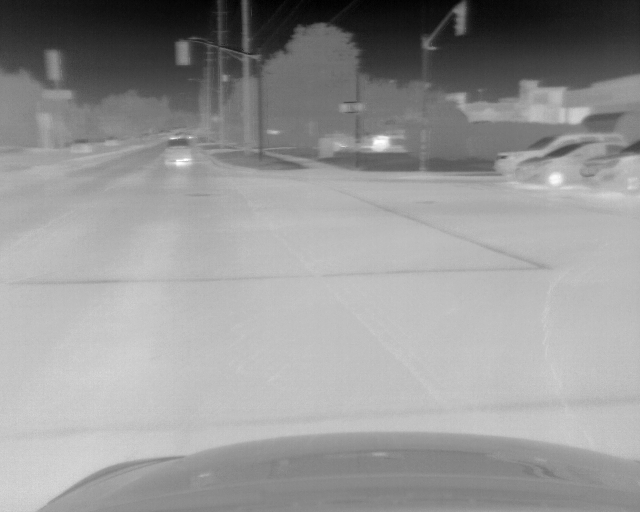car: (493, 133, 620, 180), (515, 141, 622, 185), (582, 138, 640, 190), (164, 138, 193, 167), (72, 139, 92, 153), (104, 136, 117, 147)
